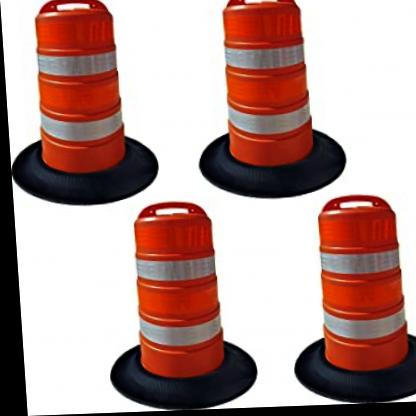obstacle: (128, 199, 225, 380), (313, 196, 407, 377), (33, 0, 125, 177), (218, 0, 312, 172)
